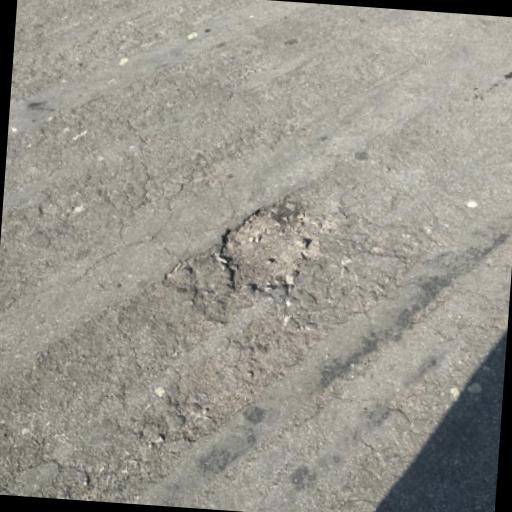pothole: (210, 194, 332, 303)
